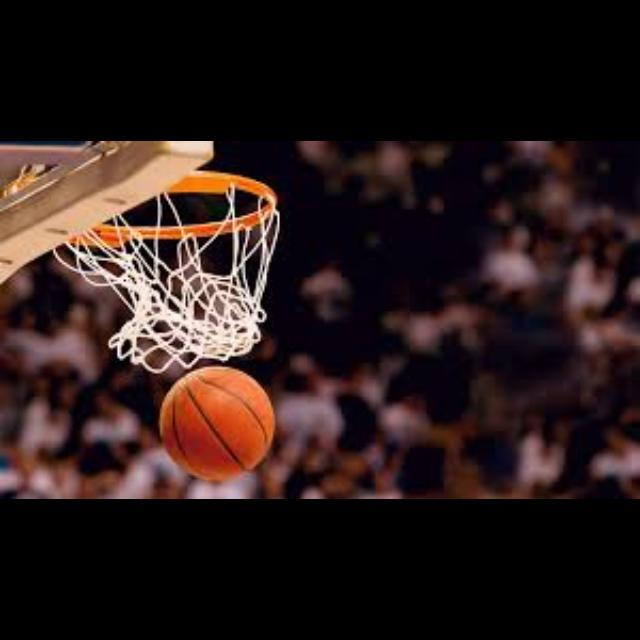basketball: (160, 368, 274, 478)
rim: (81, 171, 279, 365)
